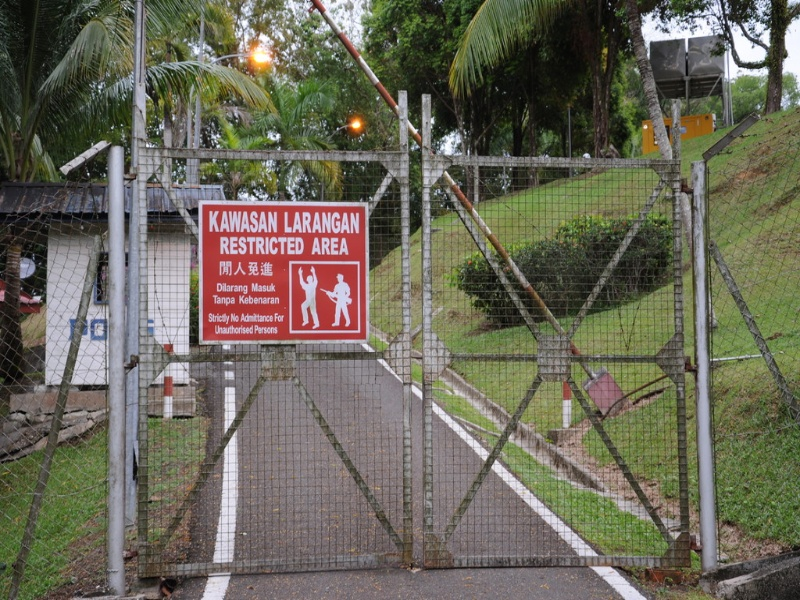no_entry: (203, 196, 374, 343)
